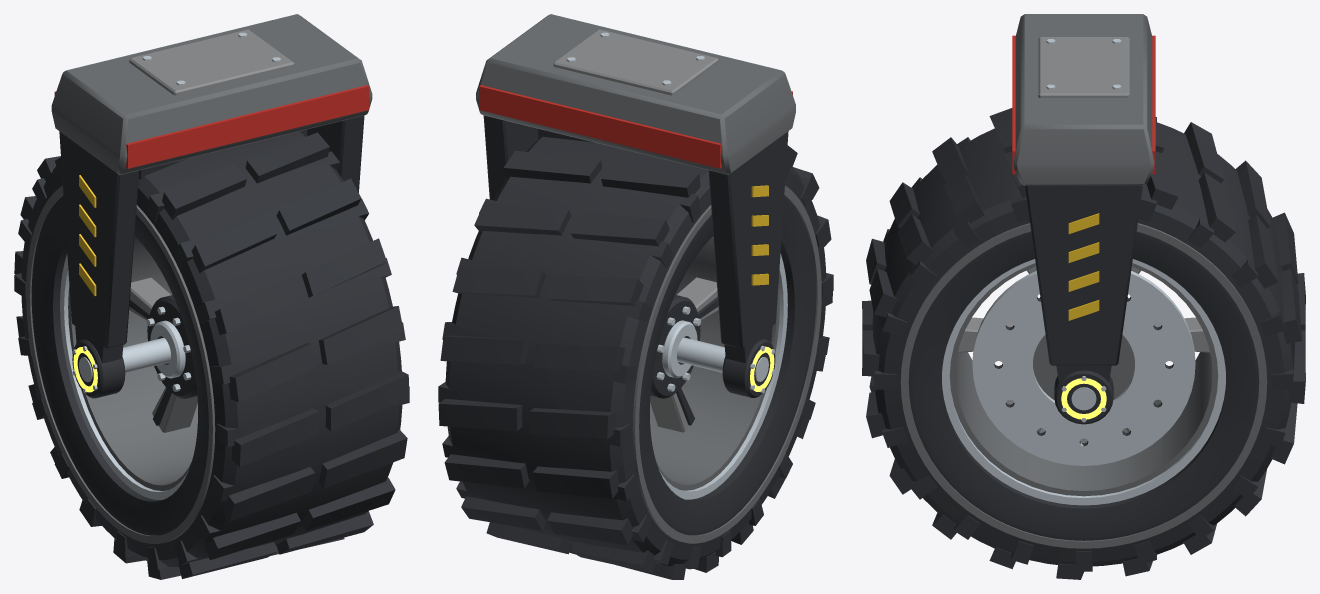
Rendered from R4M_Wheel.fbx.
3 renders of one model, left to right at view 1: azimuth 30°, elevation 25°; view 2: azimuth 150°, elevation 25°; view 3: azimuth 270°, elevation 25°, orthographic. The views are drawn at different scales.
Parts seen in each view (by area): view 1: R4M_Wheel_Rotor, R4M_Wheel_Mount; view 2: R4M_Wheel_Rotor, R4M_Wheel_Mount; view 3: R4M_Wheel_Rotor, R4M_Wheel_Mount.
Part boxes in pixels (<box>): R4M_Wheel_Rotor: <box>14,129,409,579</box>; R4M_Wheel_Mount: <box>51,14,372,398</box>; R4M_Wheel_Rotor: <box>438,128,833,579</box>; R4M_Wheel_Mount: <box>476,14,795,397</box>; R4M_Wheel_Rotor: <box>862,108,1305,579</box>; R4M_Wheel_Mount: <box>1012,14,1155,424</box>.
Bounding box in the file's own units: 0.509 × 0.9235 × 0.7799.
